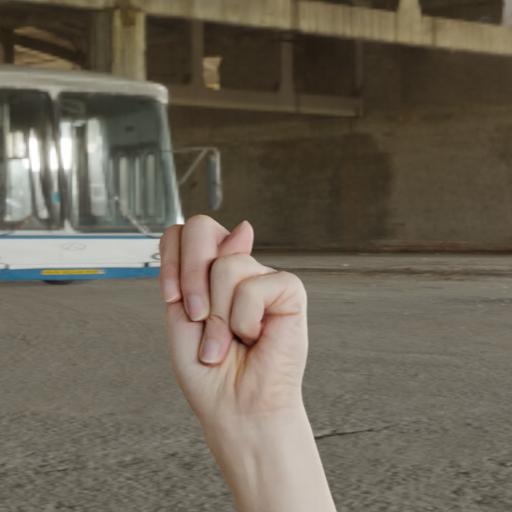N: (126, 191, 385, 449)
